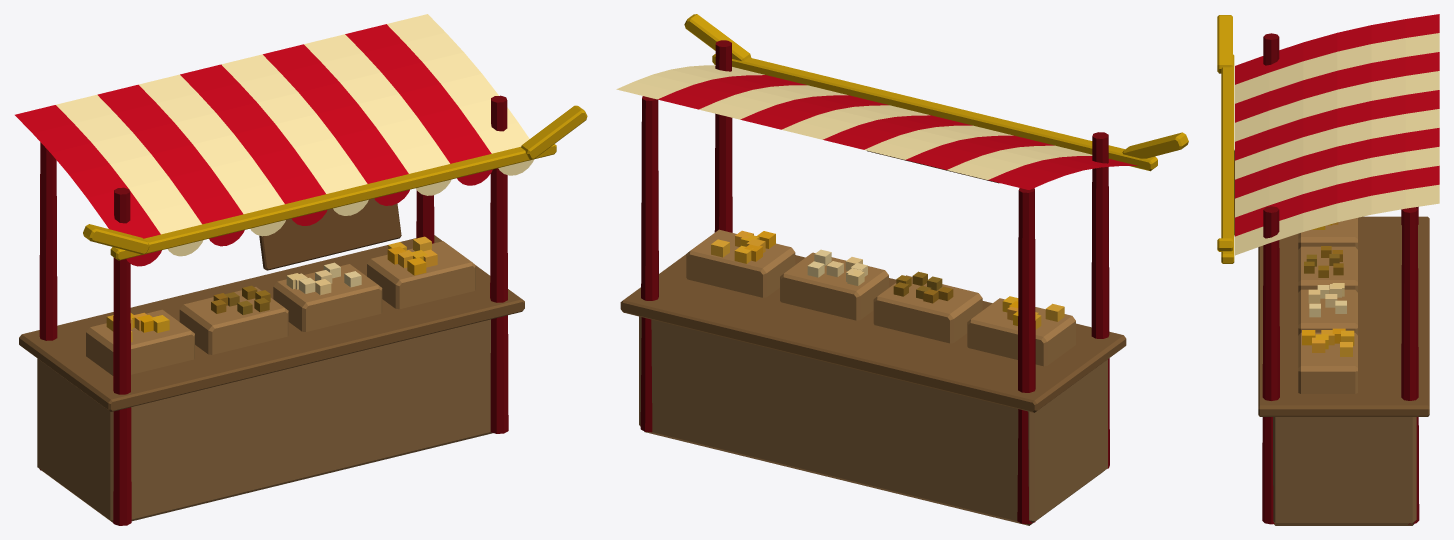
The model's file is stall_seeds.glb.
3 renders of one model, left to right at view 1: azimuth 30°, elevation 25°; view 2: azimuth 150°, elevation 25°; view 3: azimuth 270°, elevation 25°, orthographic. The views are drawn at different scales.
Parts seen in each view (by area): view 1: stall_seeds_wood, stall_seeds_fabric, stall_seeds_fruitMatte; view 2: stall_seeds_wood, stall_seeds_fabric, stall_seeds_fruitMatte; view 3: stall_seeds_wood, stall_seeds_fabric, stall_seeds_fruitMatte.
Part boxes in pixels (x1=…): stall_seeds_wood: x1=19, y1=95, x2=587, y2=525; stall_seeds_fabric: x1=15, y1=14, x2=533, y2=266; stall_seeds_fruitMatte: x1=106, y1=236, x2=437, y2=342; stall_seeds_wood: x1=620, y1=14, x2=1188, y2=525; stall_seeds_fabric: x1=616, y1=65, x2=1137, y2=189; stall_seeds_fruitMatte: x1=711, y1=230, x2=1064, y2=329; stall_seeds_wood: x1=1217, y1=15, x2=1429, y2=525; stall_seeds_fabric: x1=1235, y1=14, x2=1439, y2=255; stall_seeds_fruitMatte: x1=1302, y1=222, x2=1354, y2=356.
Bounding box in the file's own units: 4.1 × 2.75 × 1.68.
